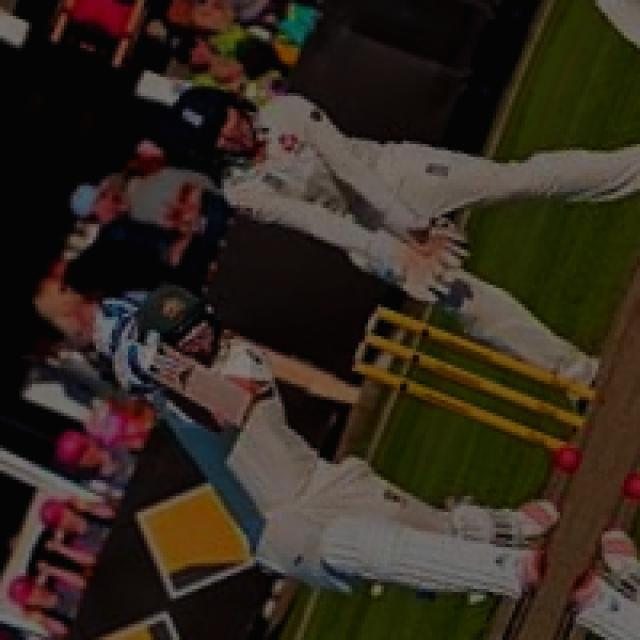bat: (120, 325, 257, 434)
toe: (231, 402, 251, 426)
